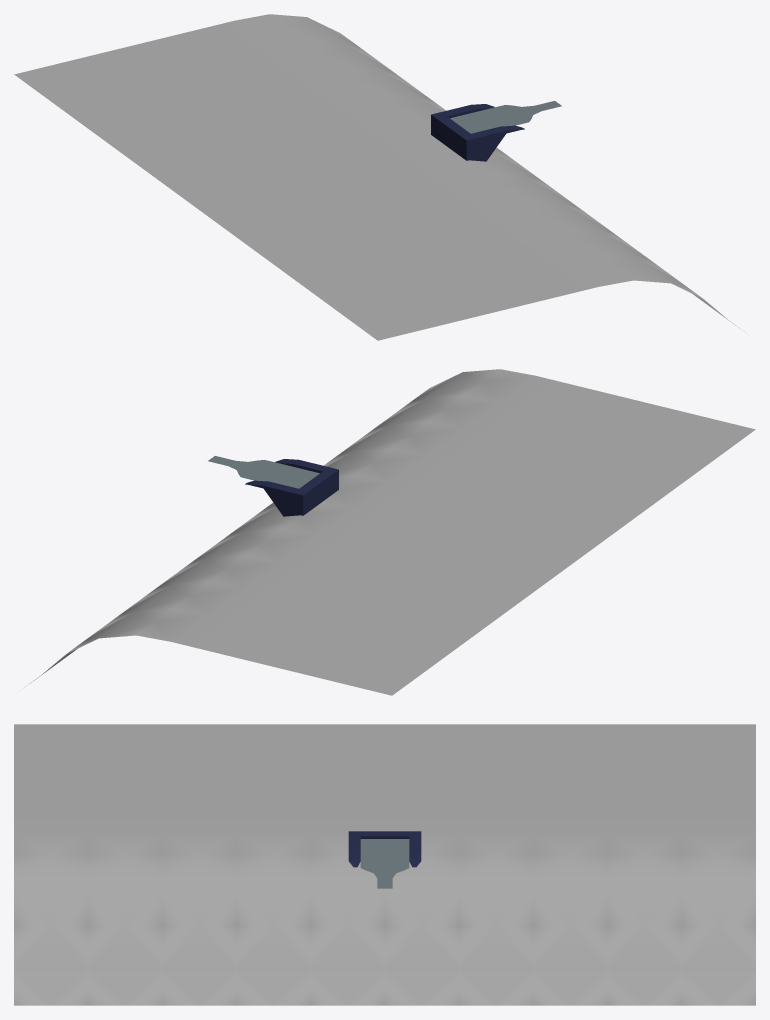
Rendered from NEW_N3_StartRoom.fbx.
3 renders of one model, top to bottom at view 1: azimuth 30°, elevation 25°; view 2: azimuth 150°, elevation 25°; view 3: azimuth 270°, elevation 25°, orthographic.
Visible parts, largest first — view 1: Lake1, StartRoom3; view 2: Lake1, StartRoom3; view 3: Lake1, StartRoom3.
Part boxes in pixels (bbox=[...]): Lake1: bbox=[14, 14, 745, 340]; StartRoom3: bbox=[431, 101, 561, 161]; Lake1: bbox=[24, 369, 755, 695]; StartRoom3: bbox=[208, 456, 338, 516]; Lake1: bbox=[14, 724, 755, 1005]; StartRoom3: bbox=[348, 831, 421, 888].
Size of what is drawn, in the model's own units: 187 by 52.05 by 312.
